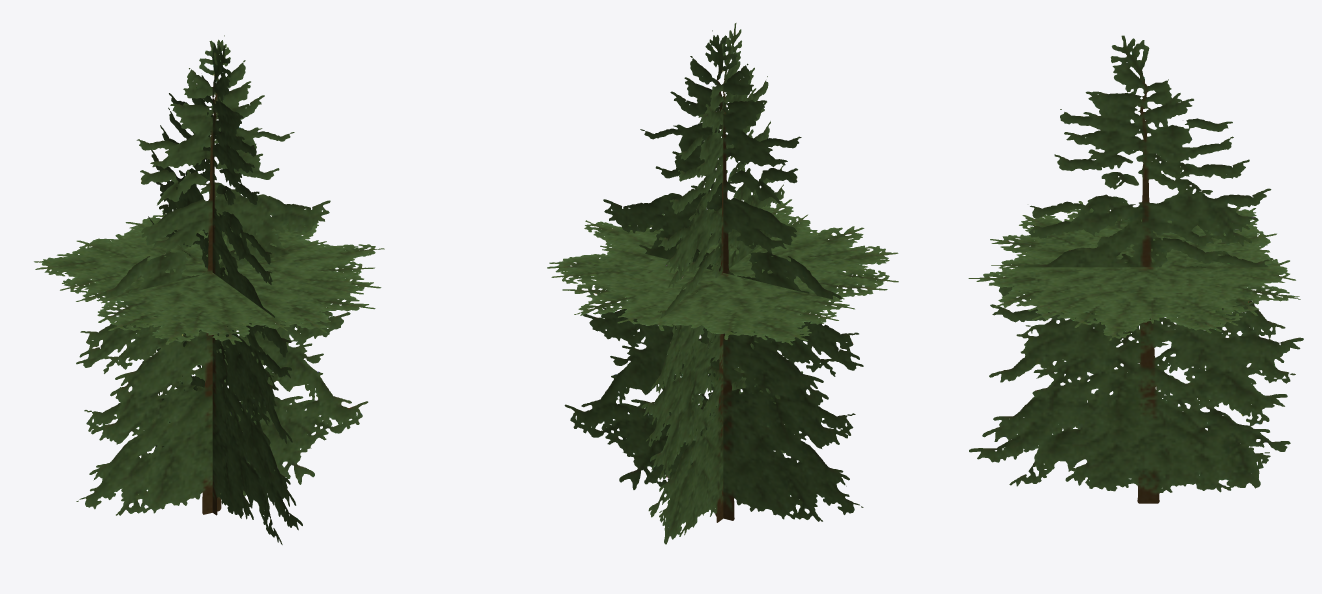
File: fir_christmas_tree_2_billboard.gltf
3 renders of one model, left to right at view 1: azimuth 30°, elevation 25°; view 2: azimuth 150°, elevation 25°; view 3: azimuth 270°, elevation 25°, orthographic. The views are drawn at different scales.
Visible parts, largest first — view 1: Christmas tree_2_LOD3_Christmas tree_2_Billboard_Mat_0; view 2: Christmas tree_2_LOD3_Christmas tree_2_Billboard_Mat_0; view 3: Christmas tree_2_LOD3_Christmas tree_2_Billboard_Mat_0.
Boxes of the visible parts, x1,y1,x2,y2 form: Christmas tree_2_LOD3_Christmas tree_2_Billboard_Mat_0: [34, 35, 384, 544]; Christmas tree_2_LOD3_Christmas tree_2_Billboard_Mat_0: [547, 23, 898, 544]; Christmas tree_2_LOD3_Christmas tree_2_Billboard_Mat_0: [968, 35, 1303, 503].
Bounding box in the file's own units: 2.72 × 4.12 × 2.73.
Materials: 1 (1 with a texture image).
